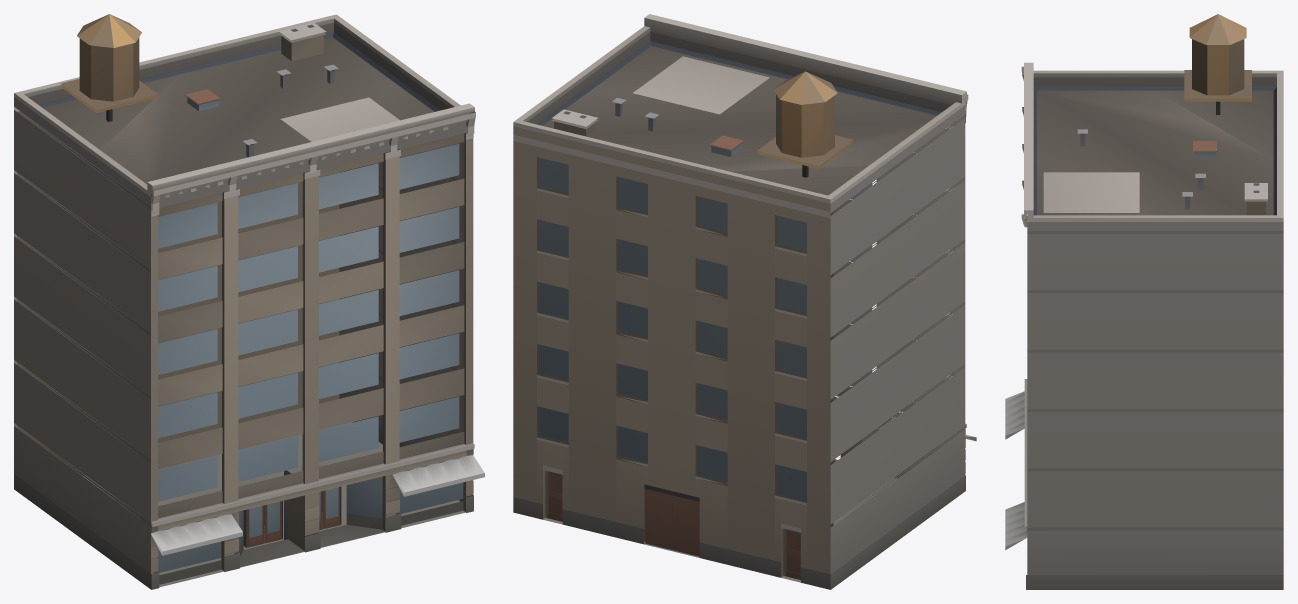
The model's file is dept.lod.glb.
3 views of the same model, side by side, from view 1: azimuth 30°, elevation 25°; view 2: azimuth 150°, elevation 25°; view 3: azimuth 270°, elevation 25° (orthographic). The views are drawn at different scales.
Parts seen in each view (by area): view 1: dept; view 2: dept; view 3: dept.
Boxes of the visible parts, x1=… form: dept: x1=14, y1=14, x2=484, y2=589; dept: x1=513, y1=14, x2=976, y2=589; dept: x1=1005, y1=14, x2=1283, y2=589.
Size of the model in its own units: 16 by 23.06 by 12.75.
